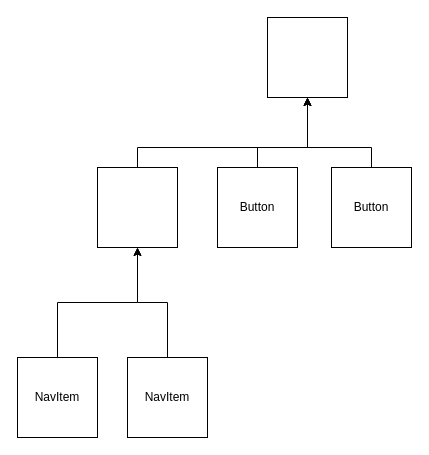
Image size: 429x455. Some labels were removed from this diagram. The box of each missing label's shape, as (x1, y1, x2, y2) in pixels:
App: (266, 16, 348, 98)
Navbar: (96, 166, 178, 248)
